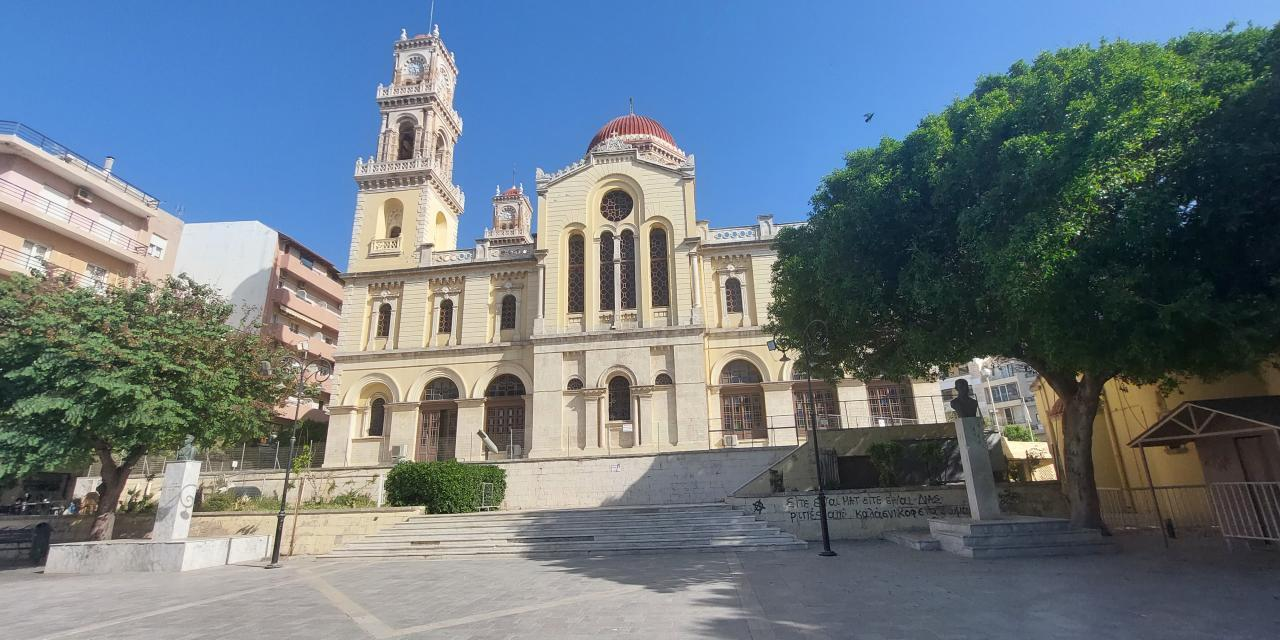Agios Minas: (322, 6, 951, 473)
